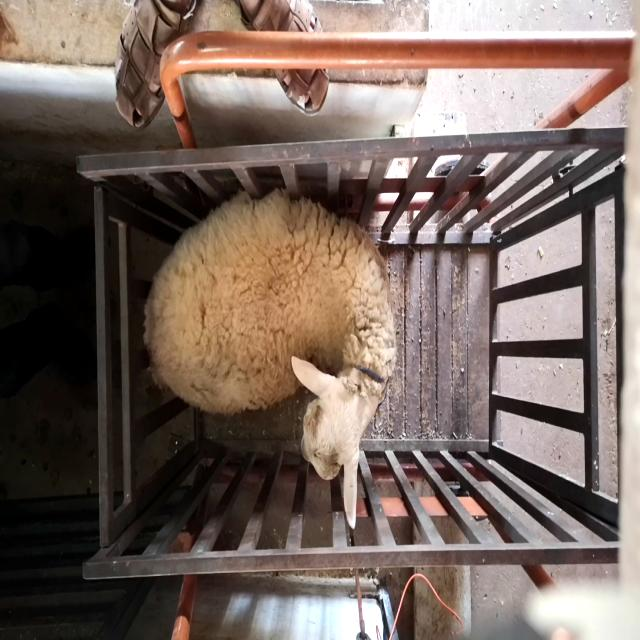sheep: (144, 191, 398, 531)
